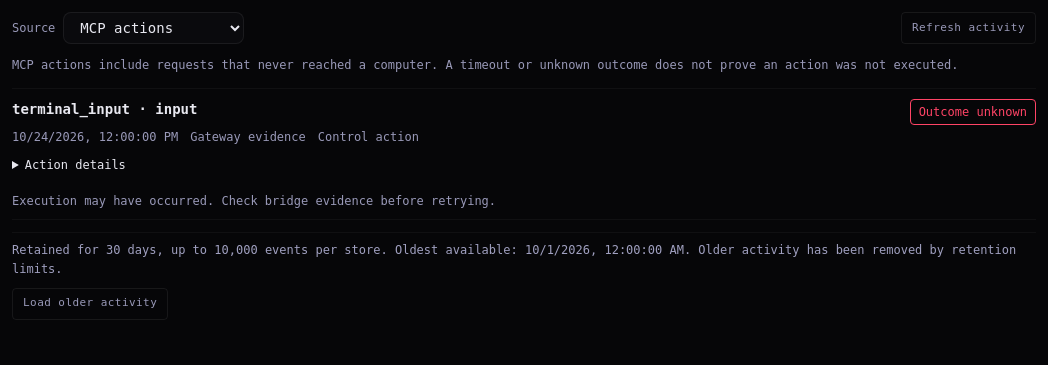
Test: Security activity › loads older pages and merges an updated event without duplicating its identity
This screenshot has width=1048, height=365.
Click the button "Load older activity" at (90, 304), box left=12, top=288, right=168, bottom=320
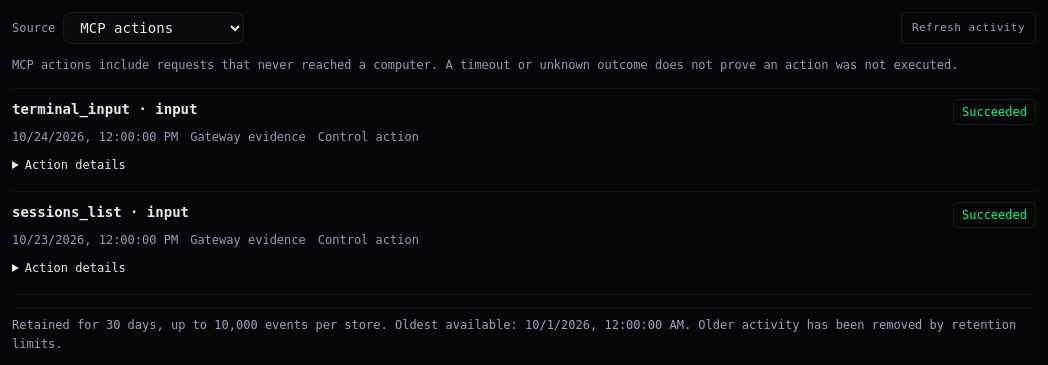
Expected: the text "terminal_input · input" is shown once, left=12, top=98, right=198, bottom=118
Expected: the text "sessions_list · input" is shown, left=12, top=202, right=189, bottom=222
Expected: the text "Outcome unknown" is gone
